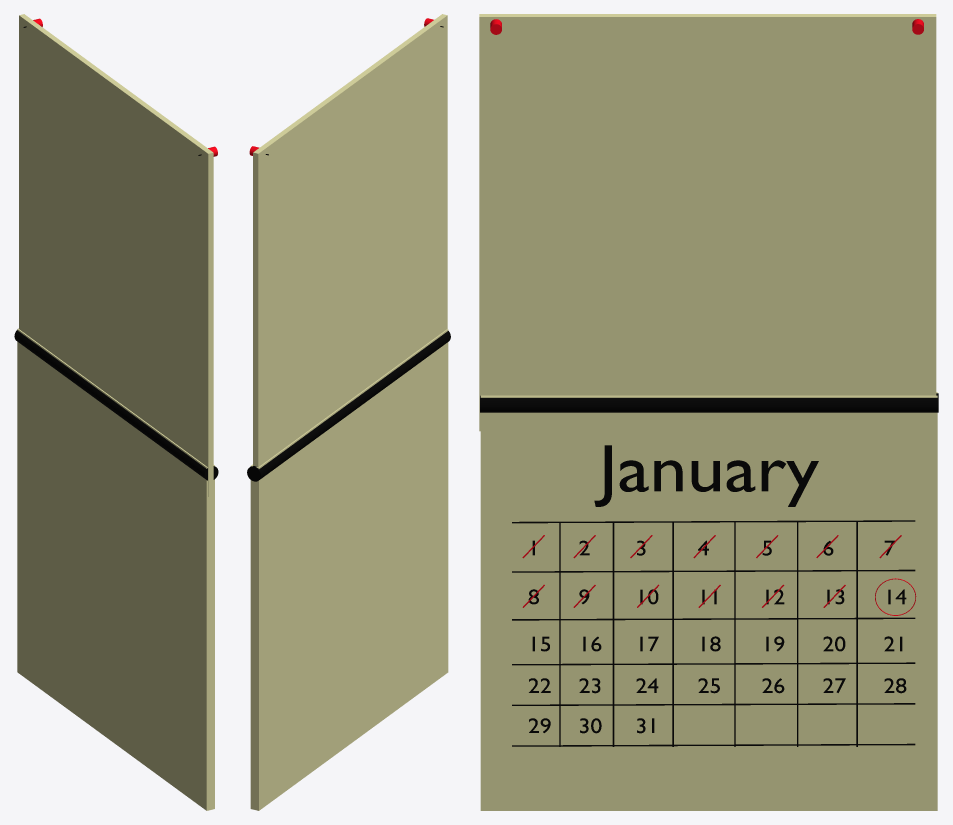
Rendered from Calendar.fbx.
3 renders of one model, left to right at view 1: azimuth 30°, elevation 25°; view 2: azimuth 150°, elevation 25°; view 3: azimuth 270°, elevation 25°, orthographic. The views are drawn at different scales.
Visible parts, largest first — view 1: Cylinder; view 2: Cylinder; view 3: Cylinder, Text.
Boxes of the visible parts, <box> form: Cylinder: <box>14,14,218,810</box>; Cylinder: <box>247,14,450,810</box>; Cylinder: <box>479,14,938,810</box>; Text: <box>594,445,818,506</box>.
Size of the model in its own units: 1.45 by 51.41 by 27.
